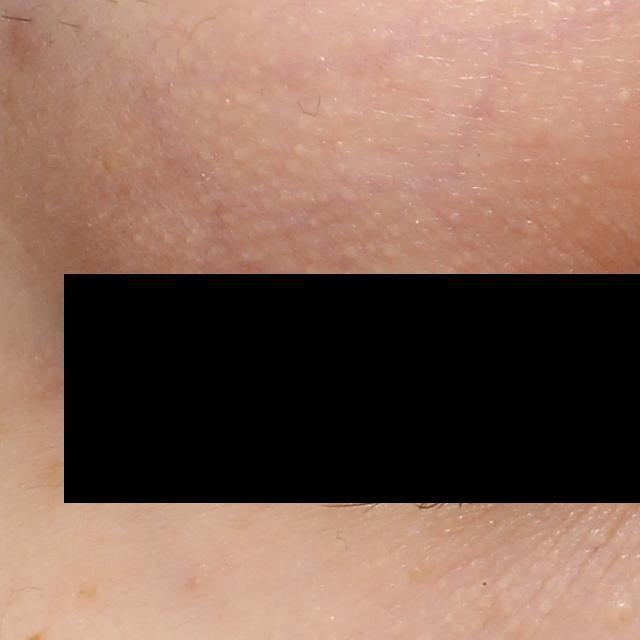comedo: (479, 577, 492, 590)
melasma: (36, 456, 90, 500)
